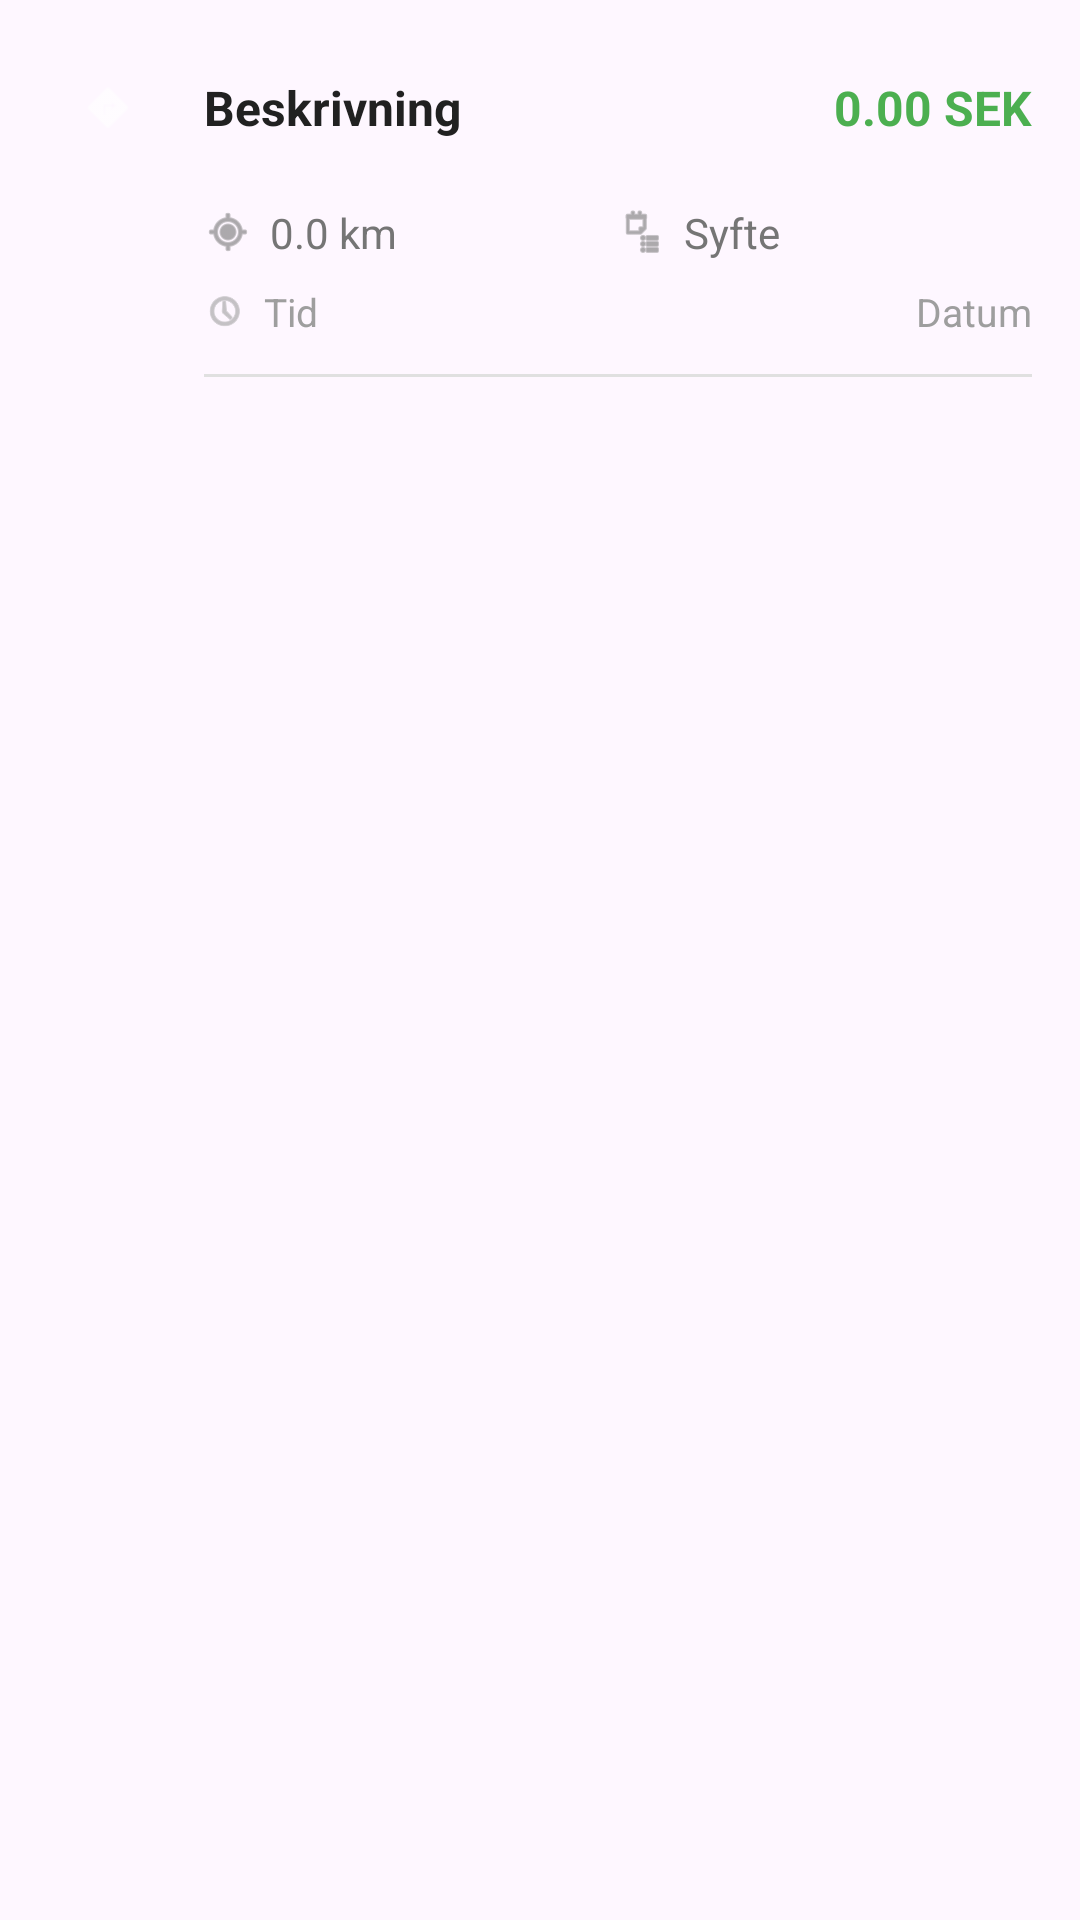

Where icons sit on this 1080px x 1920px app screen, as (x1, y1, x2, y2):
agenda: (625, 210, 659, 253)
mylocation: (209, 213, 247, 251)
recent history: (210, 296, 240, 326)
